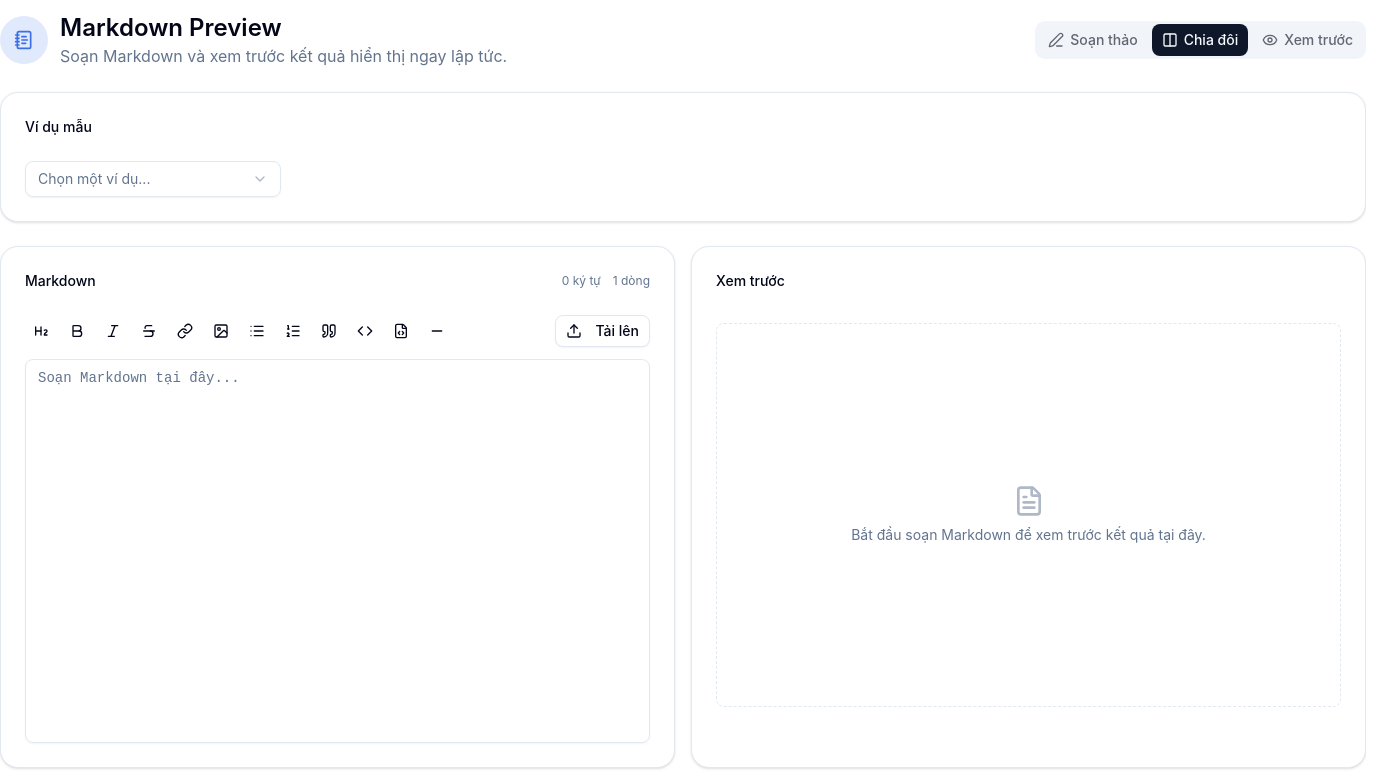
Test: MarkdownPreviewScreen › renders typed Markdown into the preview after the debounce settles
In the text box labelled "Markdown": coordinates (338, 551) left=25, top=359, right=650, bottom=743, type "# Hi"
Wait 350 ms
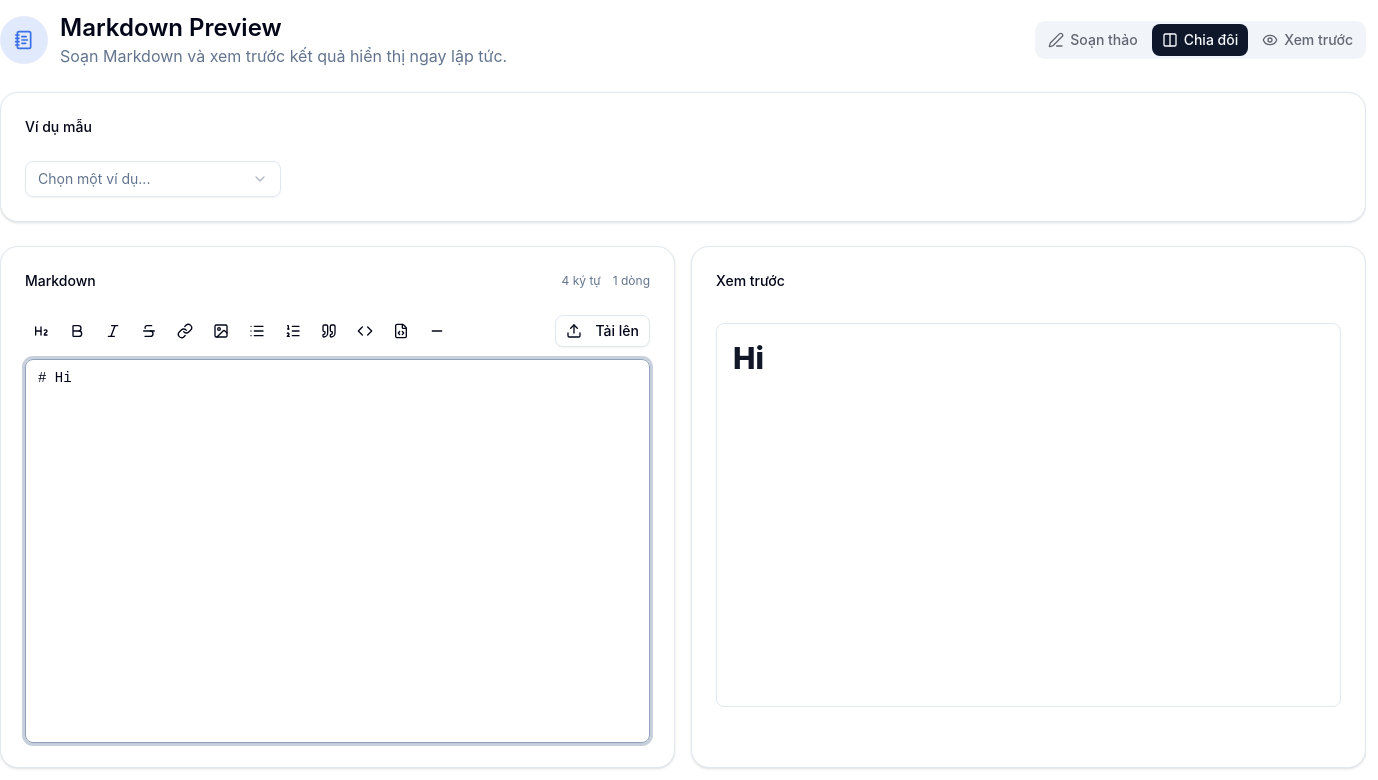
Check: the heading "Hi" is shown, box left=733, top=340, right=764, bottom=376
